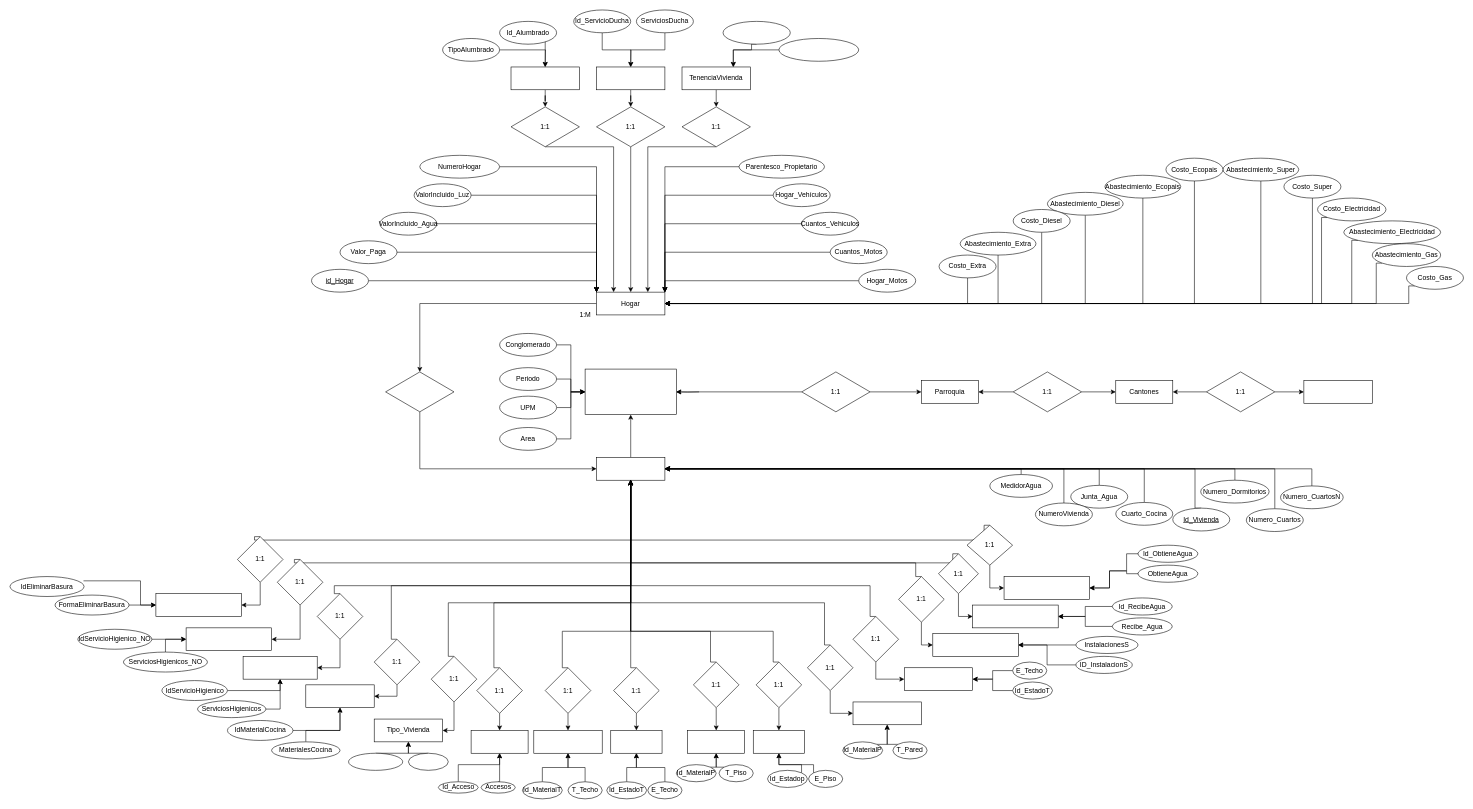
The diagram is 1473 pixels wide and 809 high, and some of its shapes have lost their labels. The centre of each missing label's shape, as x and y in pixels:
"Acceso Principal" goes at point (499, 741).
"Agua_RecibeV" goes at point (1015, 616).
"Eliminar_Basura" goes at point (198, 604).
"ENCUESTA" goes at point (630, 392).
"Estado_Paredes" goes at point (938, 679).
"Estado_Piso" goes at point (779, 741).
"Estado_Techo" goes at point (636, 741).
"Forma_TenenciaVivienda" goes at point (818, 49).
"Id_TeneciaVivienda" goes at point (756, 32).
"IdTipo_Vivienda" goes at point (375, 761).
"Material_Cocina" goes at point (339, 696).
"Material_Paredes" goes at point (886, 713).
"Material_Piso" goes at point (716, 741).
"Material_Techo" goes at point (567, 741).
"Obtiene_Agua" goes at point (1046, 587).
"Provincia" goes at point (1337, 391).
"Servicio_Ducha" goes at point (630, 78).
"T_Viviendas" goes at point (428, 761).
"Tiene" goes at point (419, 391).
"Tipo_Alumbrado" goes at point (544, 78).
"Tipo_ServicioHigienico" goes at point (280, 667).
"Tipo_ServicioHigienico_No" goes at point (229, 639).
"TipoInstalacion_Sanitaria" goes at point (975, 644).
"Vivienda" goes at point (630, 468).
